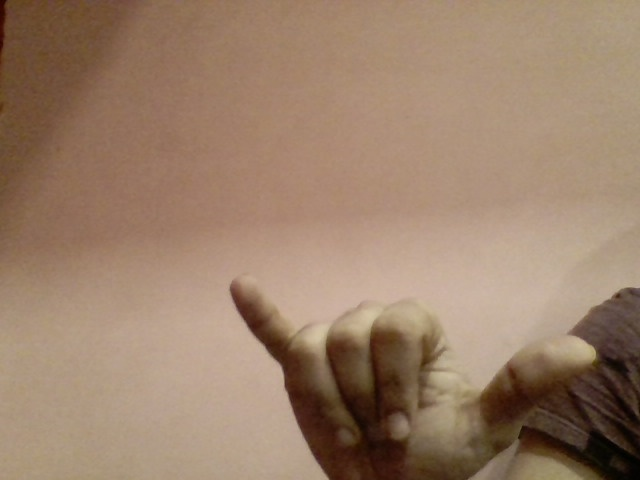y: (217, 265, 601, 480)
